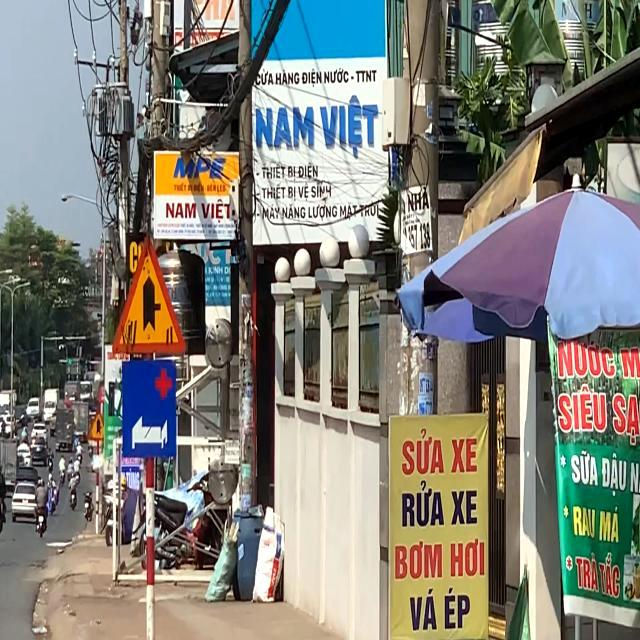Giao nhau voi duong khong uu tien ben phai: (111, 232, 188, 356)
